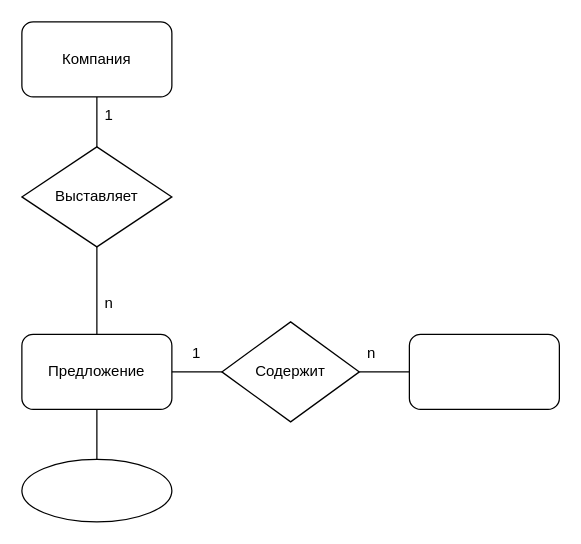
The diagram is 581 pixels wide and 544 high, and some of its shapes have lost their labels. Here are the shapes that lost their labels. From the top down, the box of each, then its label:
(408, 333, 559, 409): Товар
(21, 458, 172, 522): Цена
